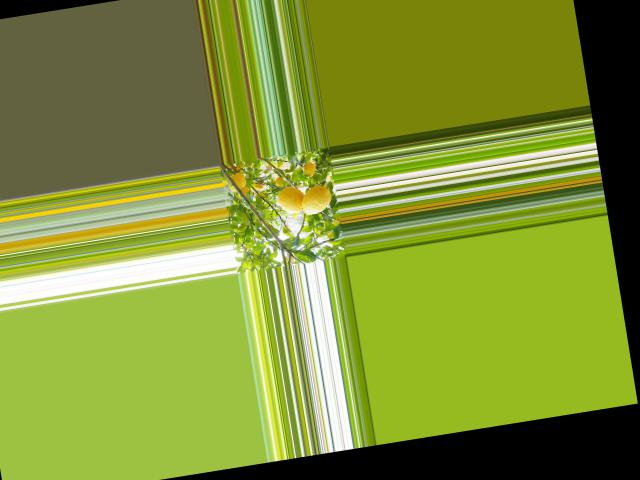lemon: (273, 180, 308, 218)
